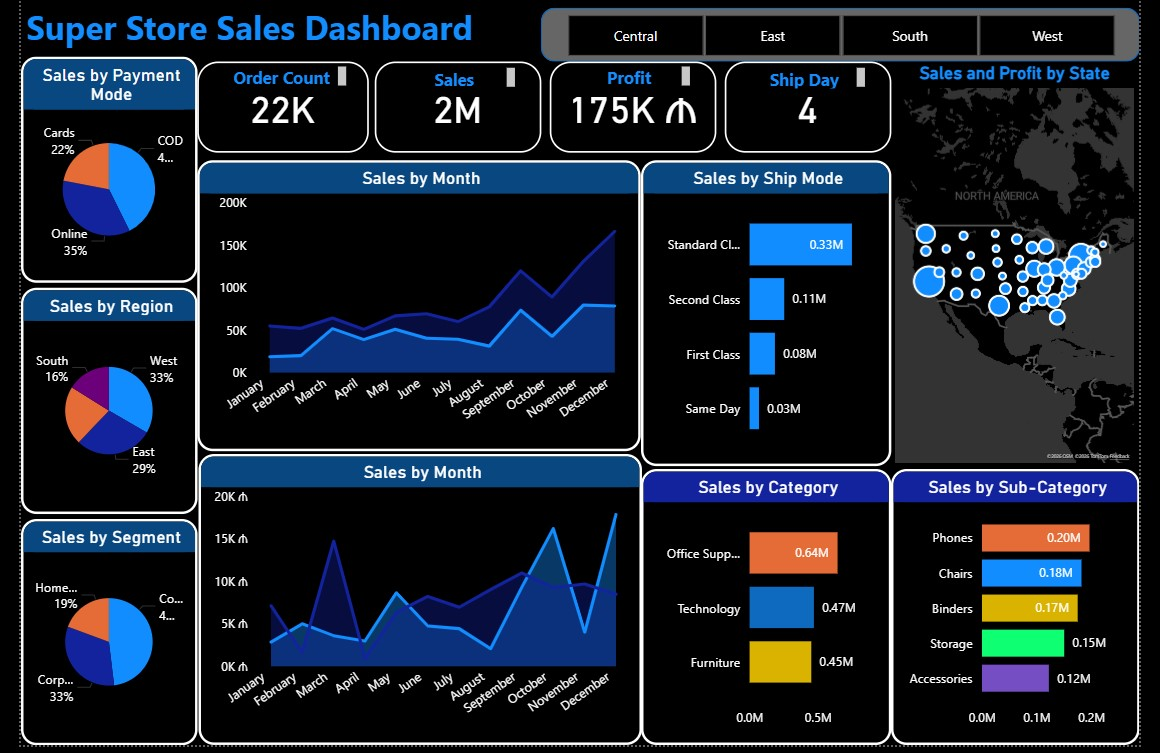

Layout of this report page (visuals, bound fields, positions):
{"tool":"powerbi","page":{"name":"First Analayze","canvas":[1080,720],"ordinal":0},"visuals":[{"type":"pieChart","title":"Sales by Segment","fields":{"Y":["Sum(SuperStore_Sales_Dataset.Sales)"],"Category":["SuperStore_Sales_Dataset.Segment"]},"box":[0,501.9,170.1,218.4],"z":0},{"type":"pieChart","title":"Sales by Payment Mode","fields":{"Y":["Sum(SuperStore_Sales_Dataset.Sales)"],"Category":["SuperStore_Sales_Dataset.Payment Mode"]},"box":[0,55.5,170.1,218.4],"z":1000},{"type":"pieChart","title":"Sales by Region","fields":{"Y":["Sum(SuperStore_Sales_Dataset.Sales)"],"Category":["SuperStore_Sales_Dataset.Region"]},"box":[0,278.7,170.1,218.4],"z":2000},{"type":"clusteredBarChart","title":"Sales by Category","fields":{"Category":["SuperStore_Sales_Dataset.Category"],"Y":["Sum(SuperStore_Sales_Dataset.Sales)"]},"box":[598.4,453.6,241.3,266.6],"z":3000},{"type":"clusteredBarChart","title":"Sales by Sub-Category","fields":{"Category":["SuperStore_Sales_Dataset.Sub-Category"],"Y":["Sum(SuperStore_Sales_Dataset.Sales)"]},"box":[839.7,453.6,240.1,266.6],"z":4000},{"type":"clusteredBarChart","title":"Sales by Ship Mode","fields":{"Category":["SuperStore_Sales_Dataset.Ship Mode"],"Y":["Sum(SuperStore_Sales_Dataset.Sales)"]},"box":[598.4,155.6,241.3,295.6],"z":5000},{"type":"areaChart","title":"Sales by Month","fields":{"Y":["Sum(SuperStore_Sales_Dataset.Sales)"],"Series":["SuperStore_Sales_Dataset.Order Date.Variation.Date Hierarchy.Year"],"Category":["SuperStore_Sales_Dataset.Order Date.Variation.Date Hierarchy.Month","SuperStore_Sales_Dataset.Order Date.Variation.Date Hierarchy.Day"]},"box":[170.1,155.6,428.3,281.1],"z":6000},{"type":"textbox","box":[0,0,456,60.3],"z":7000},{"type":"shape","box":[501.9,8.4,577.9,51.9],"z":8000},{"type":"card","fields":{"Values":["Sum(SuperStore_Sales_Dataset.Quantity)"]},"box":[170.1,60.3,165.3,88.1],"z":18000},{"type":"card","fields":{"Values":["Sum(SuperStore_Sales_Dataset.Sales)"]},"box":[341.4,60.3,160.5,88.1],"z":19000},{"type":"card","fields":{"Values":["Sum(SuperStore_Sales_Dataset.Profit)"]},"box":[510.3,60.3,160.5,88.1],"z":20000},{"type":"card","fields":{"Values":["Calculating.Ship days"]},"box":[679.2,60.3,160.5,88.1],"z":21000},{"type":"textbox","box":[363.1,61.5,118.2,30.2],"z":22000},{"type":"textbox","box":[200.3,60.3,118.2,30.2],"z":23000},{"type":"textbox","box":[532,60.3,118.2,30.2],"z":24000},{"type":"textbox","box":[700.9,61.5,118.2,30.2],"z":25000},{"type":"azureMap","title":"Sales and Profit by State","fields":{"Category":["SuperStore_Sales_Dataset.State"],"Size":["Sum(SuperStore_Sales_Dataset.Sales)"]},"box":[838.5,61.5,241.3,390.9],"z":26000},{"type":"areaChart","title":"Sales by Month","fields":{"Series":["SuperStore_Sales_Dataset.Order Date.Variation.Date Hierarchy.Year"],"Category":["SuperStore_Sales_Dataset.Order Date.Variation.Date Hierarchy.Month","SuperStore_Sales_Dataset.Order Date.Variation.Date Hierarchy.Day"],"Y":["Sum(SuperStore_Sales_Dataset.Profit)"]},"box":[171.3,439.1,428.3,281.1],"z":26001},{"type":"slicer","fields":{"Values":["SuperStore_Sales_Dataset.Region"]},"box":[501.9,8.4,577.9,53.1],"z":26002}]}

Visuals, with their boxes in screenshot pixels (x1, y1, x2, y2), scaled from the page's 1080x720 canvas onto the 1160x753 screenshot:
"Sales by Segment" pieChart: 0 525 183 752
"Sales by Payment Mode" pieChart: 0 58 183 286
"Sales by Region" pieChart: 0 291 183 520
"Sales by Category" clusteredBarChart: 643 474 902 752
"Sales by Sub-Category" clusteredBarChart: 902 474 1159 752
"Sales by Ship Mode" clusteredBarChart: 643 163 902 472
"Sales by Month" areaChart: 183 163 643 457
textbox: 0 0 490 63
shape: 539 9 1159 63
card - Sum(SuperStore_Sales_Dataset.Quantity): 183 63 360 155
card - Sum(SuperStore_Sales_Dataset.Sales): 367 63 539 155
card - Sum(SuperStore_Sales_Dataset.Profit): 548 63 720 155
card - Calculating.Ship days: 730 63 902 155
textbox: 390 64 517 96
textbox: 215 63 342 95
textbox: 571 63 698 95
textbox: 753 64 880 96
"Sales and Profit by State" azureMap: 901 64 1159 473
"Sales by Month" areaChart: 184 459 644 752
slicer - SuperStore_Sales_Dataset.Region: 539 9 1159 64
